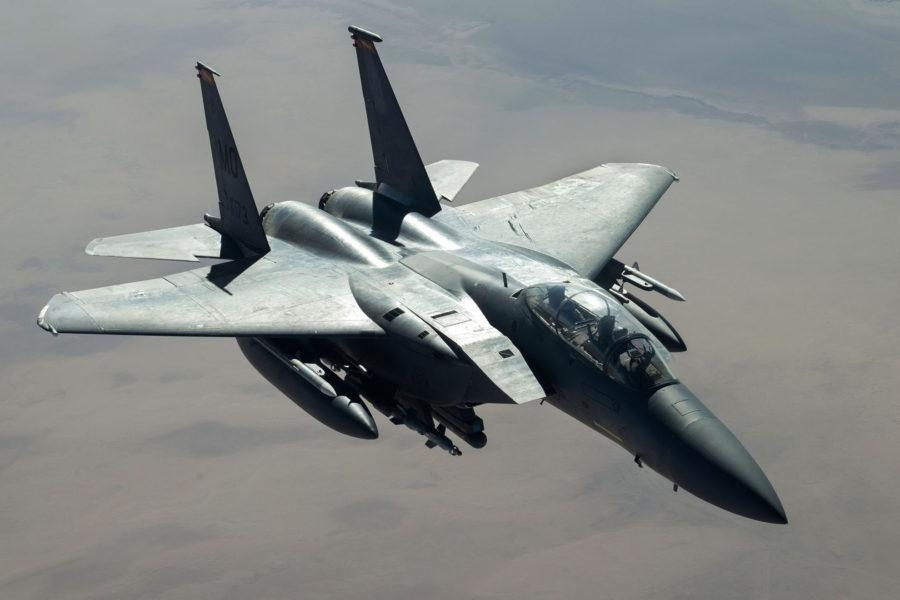aircraft: (32, 24, 843, 520)
